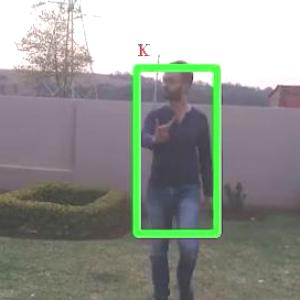takeoff-hand: (149, 107, 179, 147)
